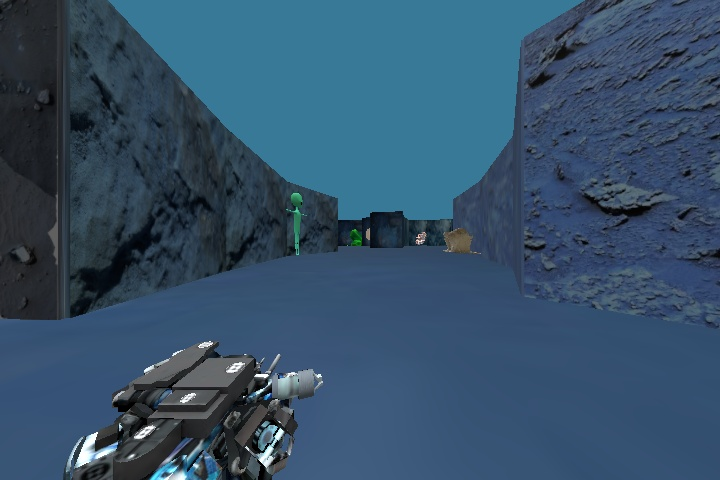formation: (436, 224, 472, 255)
green_alien: (284, 186, 313, 257)
green_crystal: (345, 226, 364, 246)
mushrooms: (413, 229, 428, 248)
